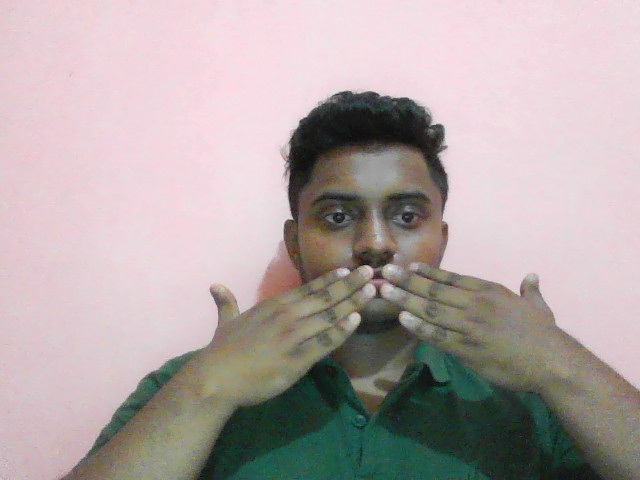Thank You: (174, 257, 593, 408)
